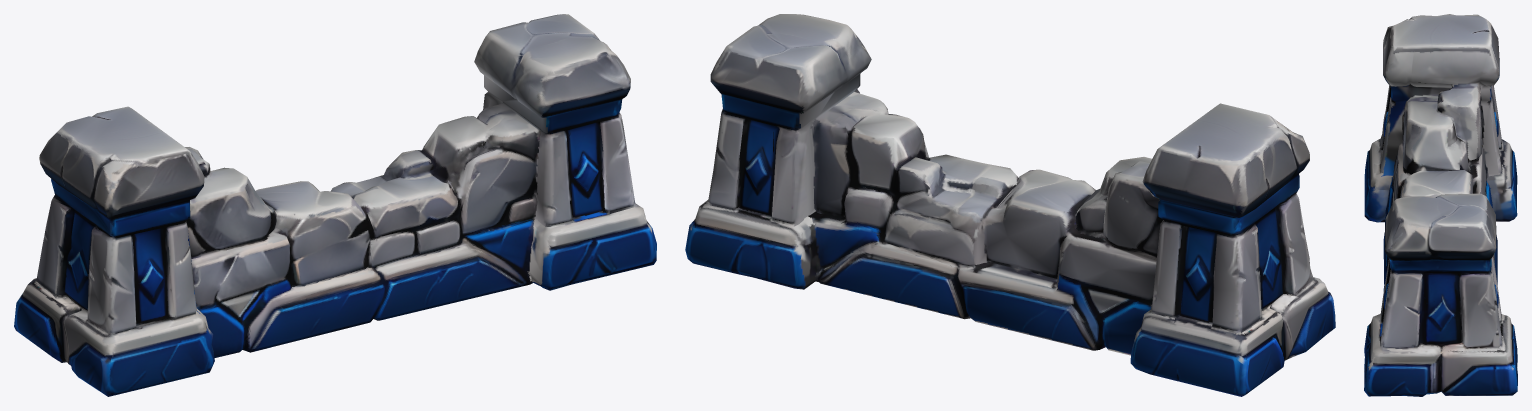
File: ruins-broken-wall-cover_LOD0.glb
3 views of the same model, side by side, from view 1: azimuth 30°, elevation 25°; view 2: azimuth 150°, elevation 25°; view 3: azimuth 270°, elevation 25° (orthographic). The views are drawn at different scales.
Visible parts, largest first — view 1: ruins-broken-wall-cover_LOD0; view 2: ruins-broken-wall-cover_LOD0; view 3: ruins-broken-wall-cover_LOD0.
Part boxes in pixels (x1,y1,x2,y2): ruins-broken-wall-cover_LOD0: (14,14,656,396); ruins-broken-wall-cover_LOD0: (685,14,1335,396); ruins-broken-wall-cover_LOD0: (1364,14,1517,396).
Bounding box in the file's own units: 2.96 × 1.1 × 0.8782.
Materials: 1 (1 with a texture image).
